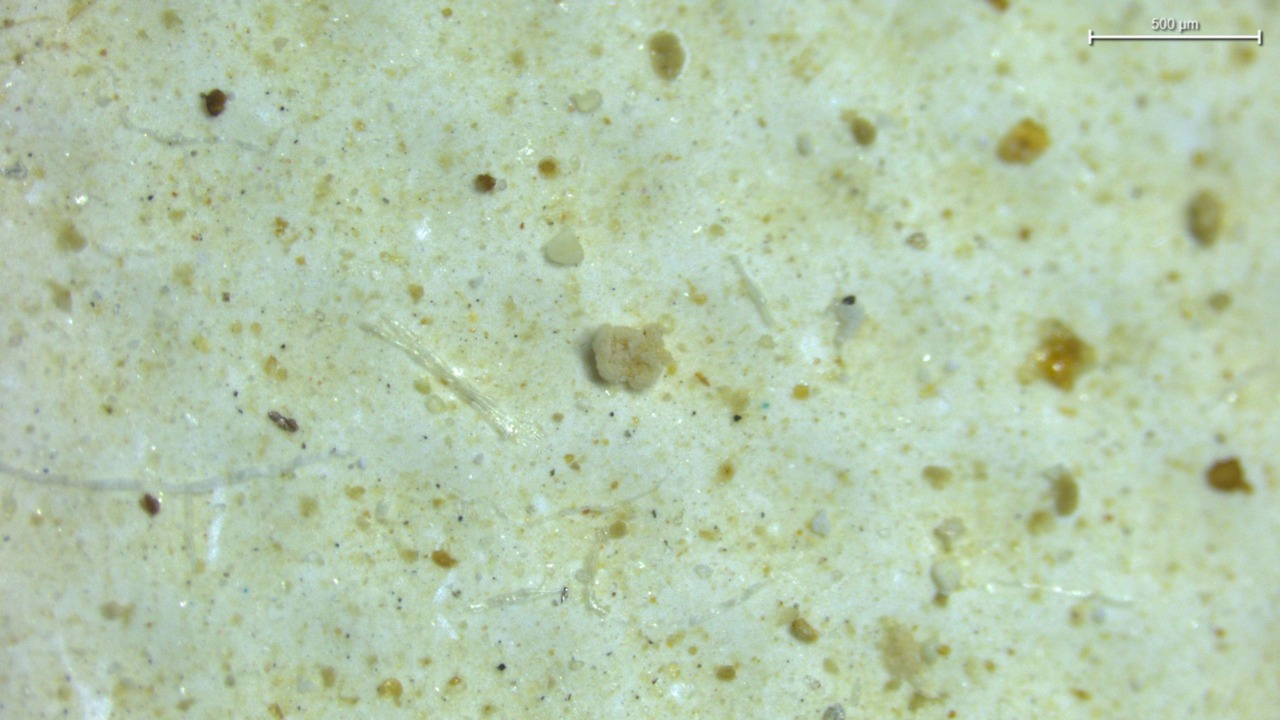microplastic_fragment: (591, 324, 672, 390), (542, 228, 584, 266)
